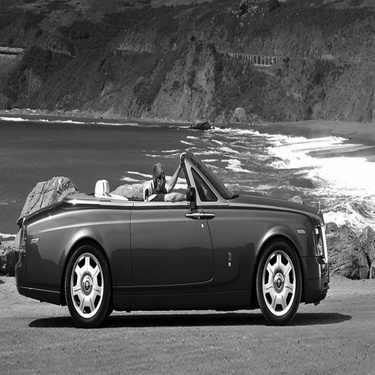car: (1, 147, 339, 323)
